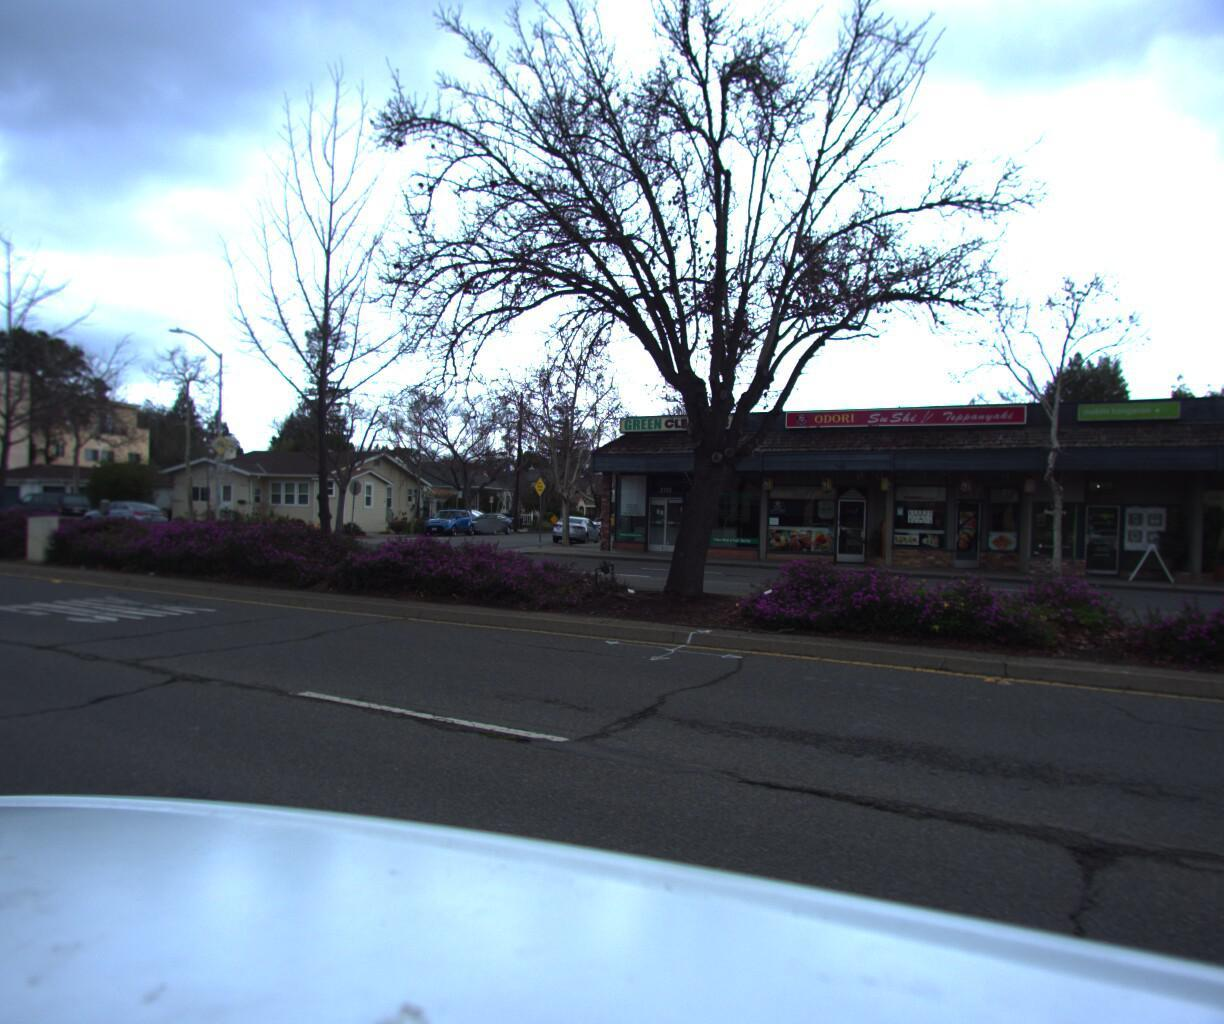car: (71, 494, 174, 528), (1, 487, 97, 523), (545, 509, 604, 540), (418, 502, 476, 532), (462, 507, 513, 532)
